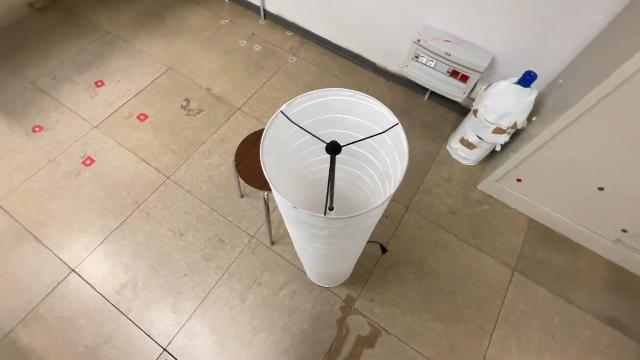Lamp: (259, 87, 415, 292)
Stool: (232, 125, 276, 250)
